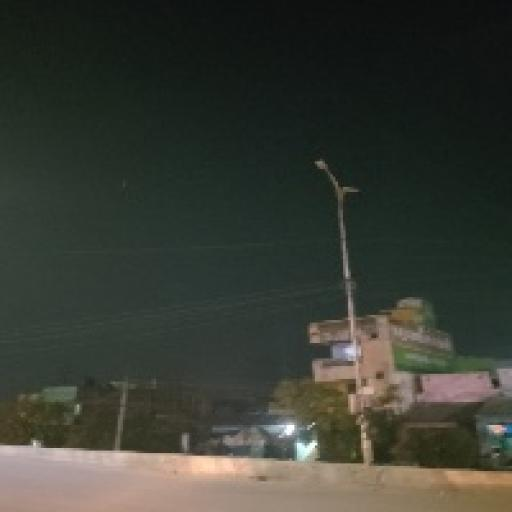Not Working: (311, 155, 330, 178), (344, 184, 364, 198)
